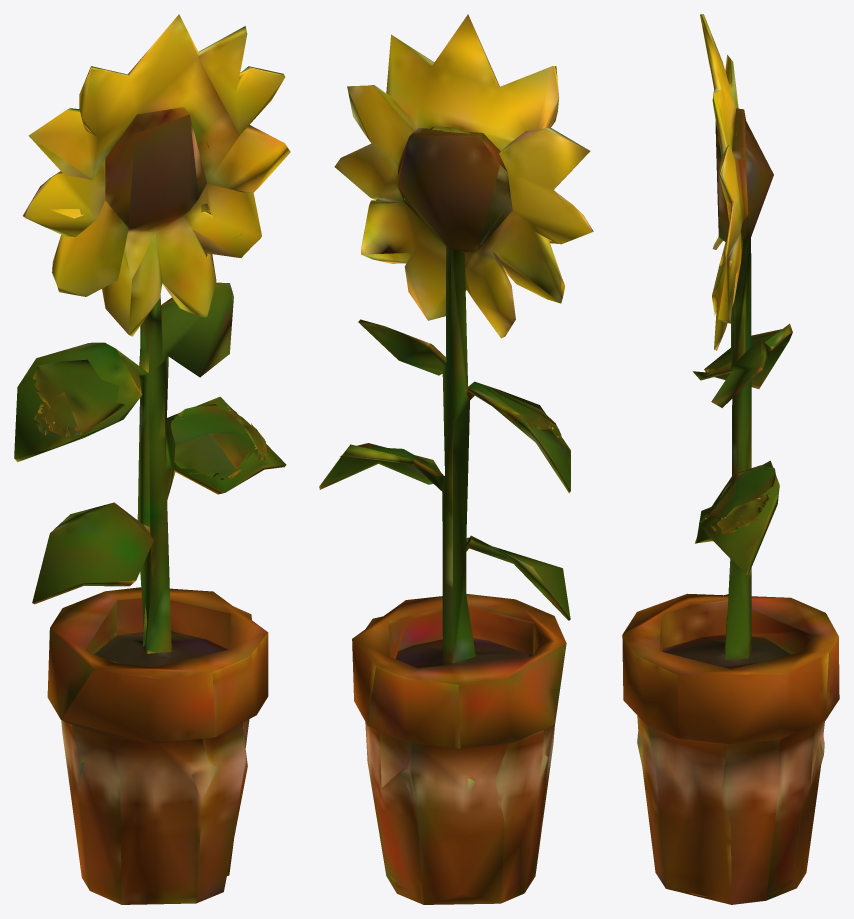
Rendered from sunflower_small.glb.
3 renders of one model, left to right at view 1: azimuth 30°, elevation 25°; view 2: azimuth 150°, elevation 25°; view 3: azimuth 270°, elevation 25°, orthographic. The views are drawn at different scales.
Bounding box in the file's own units: 0.3269 × 1 × 0.2314.
1 material, 1 textured.
